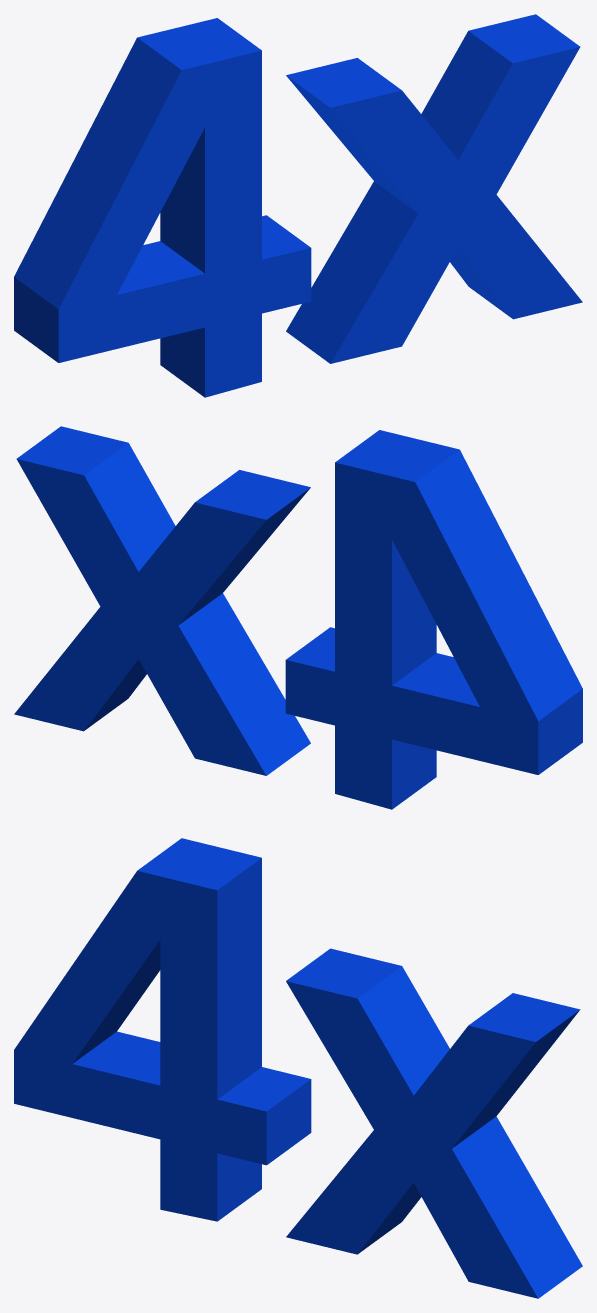
The picture shows the model from 3 angles, top to bottom: view 1: azimuth 30°, elevation 25°; view 2: azimuth 150°, elevation 25°; view 3: azimuth 330°, elevation 25°; orthographic projection.
Parts seen in each view (by area): view 1: polySurface3; view 2: polySurface3; view 3: polySurface3.
Part boxes in pixels (bbox=[...]): polySurface3: bbox=[14, 14, 582, 397]; polySurface3: bbox=[14, 426, 582, 809]; polySurface3: bbox=[14, 838, 582, 1298].
Size of the model in its own units: 4.19 by 2.54 by 0.6165.
